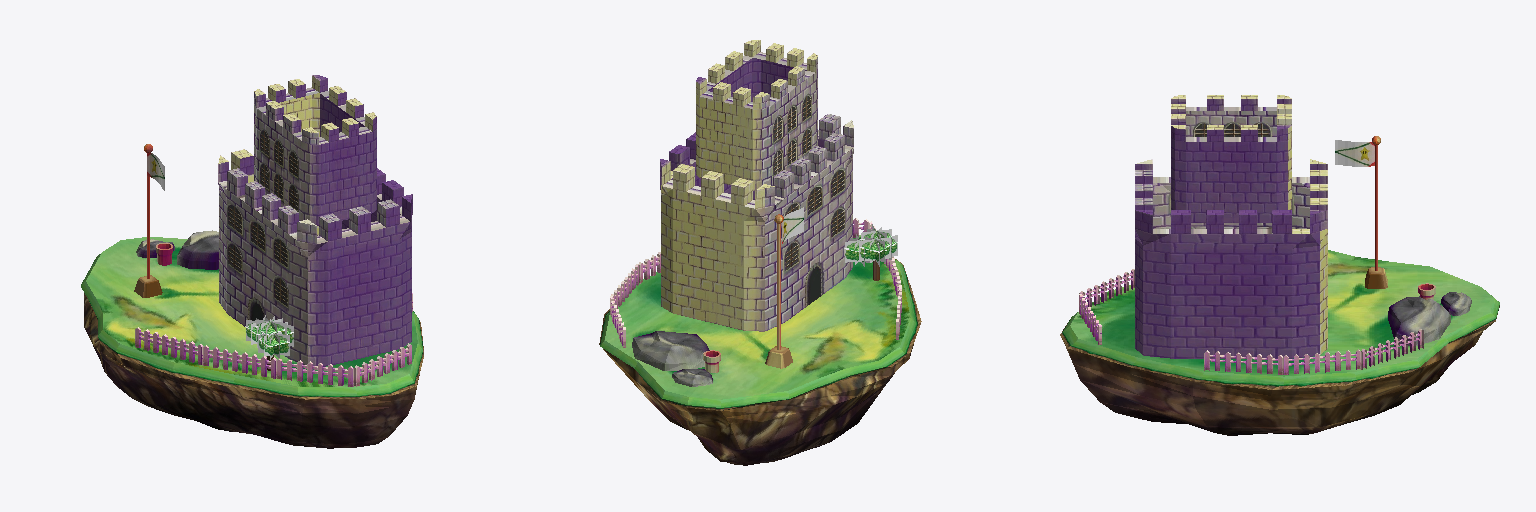
3 renders of one model, left to right at view 1: azimuth 30°, elevation 25°; view 2: azimuth 150°, elevation 25°; view 3: azimuth 270°, elevation 25°, orthographic.
Parts seen in each view (by area): view 1: Object_castle4.jpg, Object_underside2.jpg, Object_grass2.jpg, Object_castle1.jpg, Object_castle6.jpg, Object_ledge.jpg, Object_fence.jpg, Object_castle2.jpg, Object_rock3.jpg, Object_foliage1.jpg, Object_castle3.jpg, Object_castle5.jpg; view 2: Object_grass2.jpg, Object_castle3.jpg, Object_underside2.jpg, Object_castle1.jpg, Object_castle6.jpg, Object_ledge.jpg, Object_castle2.jpg, Object_rock3.jpg, Object_fence.jpg, Object_foliage1.jpg, Object_castle4.jpg, Object_castle5.jpg (+1 smaller); view 3: Object_castle5.jpg, Object_underside2.jpg, Object_grass2.jpg, Object_castle6.jpg, Object_ledge.jpg, Object_fence.jpg, Object_castle1.jpg, Object_rock3.jpg, Object_castle2.jpg, Object_castle3.jpg, Object_castle4.jpg, Object_flag.jpg.
Part boxes in pixels (left/top/right/bottom): Object_castle4.jpg: left=308, top=129, right=411, bottom=366; Object_underside2.jpg: left=84, top=293, right=419, bottom=448; Object_grass2.jpg: left=86, top=237, right=417, bottom=386; Object_castle1.jpg: left=218, top=87, right=409, bottom=364; Object_castle6.jpg: left=218, top=75, right=412, bottom=243; Object_ledge.jpg: left=81, top=254, right=423, bottom=399; Object_fence.jpg: left=135, top=293, right=412, bottom=386; Object_castle2.jpg: left=254, top=104, right=309, bottom=220; Object_rock3.jpg: left=136, top=230, right=218, bottom=269; Object_foliage1.jpg: left=246, top=315, right=293, bottom=359; Object_castle3.jpg: left=248, top=93, right=319, bottom=235; Object_castle5.jpg: left=320, top=94, right=412, bottom=228; Object_grass2.jpg: left=605, top=235, right=910, bottom=399; Object_castle3.jpg: left=661, top=94, right=764, bottom=331; Object_underside2.jpg: left=603, top=344, right=913, bottom=465; Object_castle1.jpg: left=663, top=52, right=853, bottom=330; Object_castle6.jpg: left=660, top=40, right=853, bottom=208; Object_ledge.jpg: left=599, top=259, right=921, bottom=410; Object_castle2.jpg: left=762, top=69, right=817, bottom=185; Object_rock3.jpg: left=632, top=331, right=712, bottom=386; Object_fence.jpg: left=610, top=218, right=901, bottom=347; Object_foliage1.jpg: left=845, top=224, right=897, bottom=266; Object_castle4.jpg: left=752, top=58, right=823, bottom=199; Object_castle5.jpg: left=660, top=59, right=751, bottom=193; Object_castle5.jpg: left=1143, top=140, right=1319, bottom=358; Object_underside2.jpg: left=1063, top=323, right=1492, bottom=435; Object_grass2.jpg: left=1070, top=250, right=1493, bottom=376; Object_castle6.jpg: left=1135, top=95, right=1327, bottom=233; Object_ledge.jpg: left=1060, top=290, right=1499, bottom=389; Object_fence.jpg: left=1079, top=269, right=1423, bottom=374; Object_castle1.jpg: left=1153, top=107, right=1309, bottom=233; Object_rock3.jpg: left=1388, top=292, right=1471, bottom=345; Object_castle2.jpg: left=1186, top=111, right=1276, bottom=136; Object_castle3.jpg: left=1288, top=138, right=1327, bottom=354; Object_castle4.jpg: left=1135, top=138, right=1174, bottom=354; Object_flag.jpg: left=1335, top=140, right=1374, bottom=166.
Size of the model in its own units: 1.83 by 2.02 by 2.5.
20 materials, 19 textured.